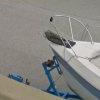Boat: (34, 11, 98, 97)
